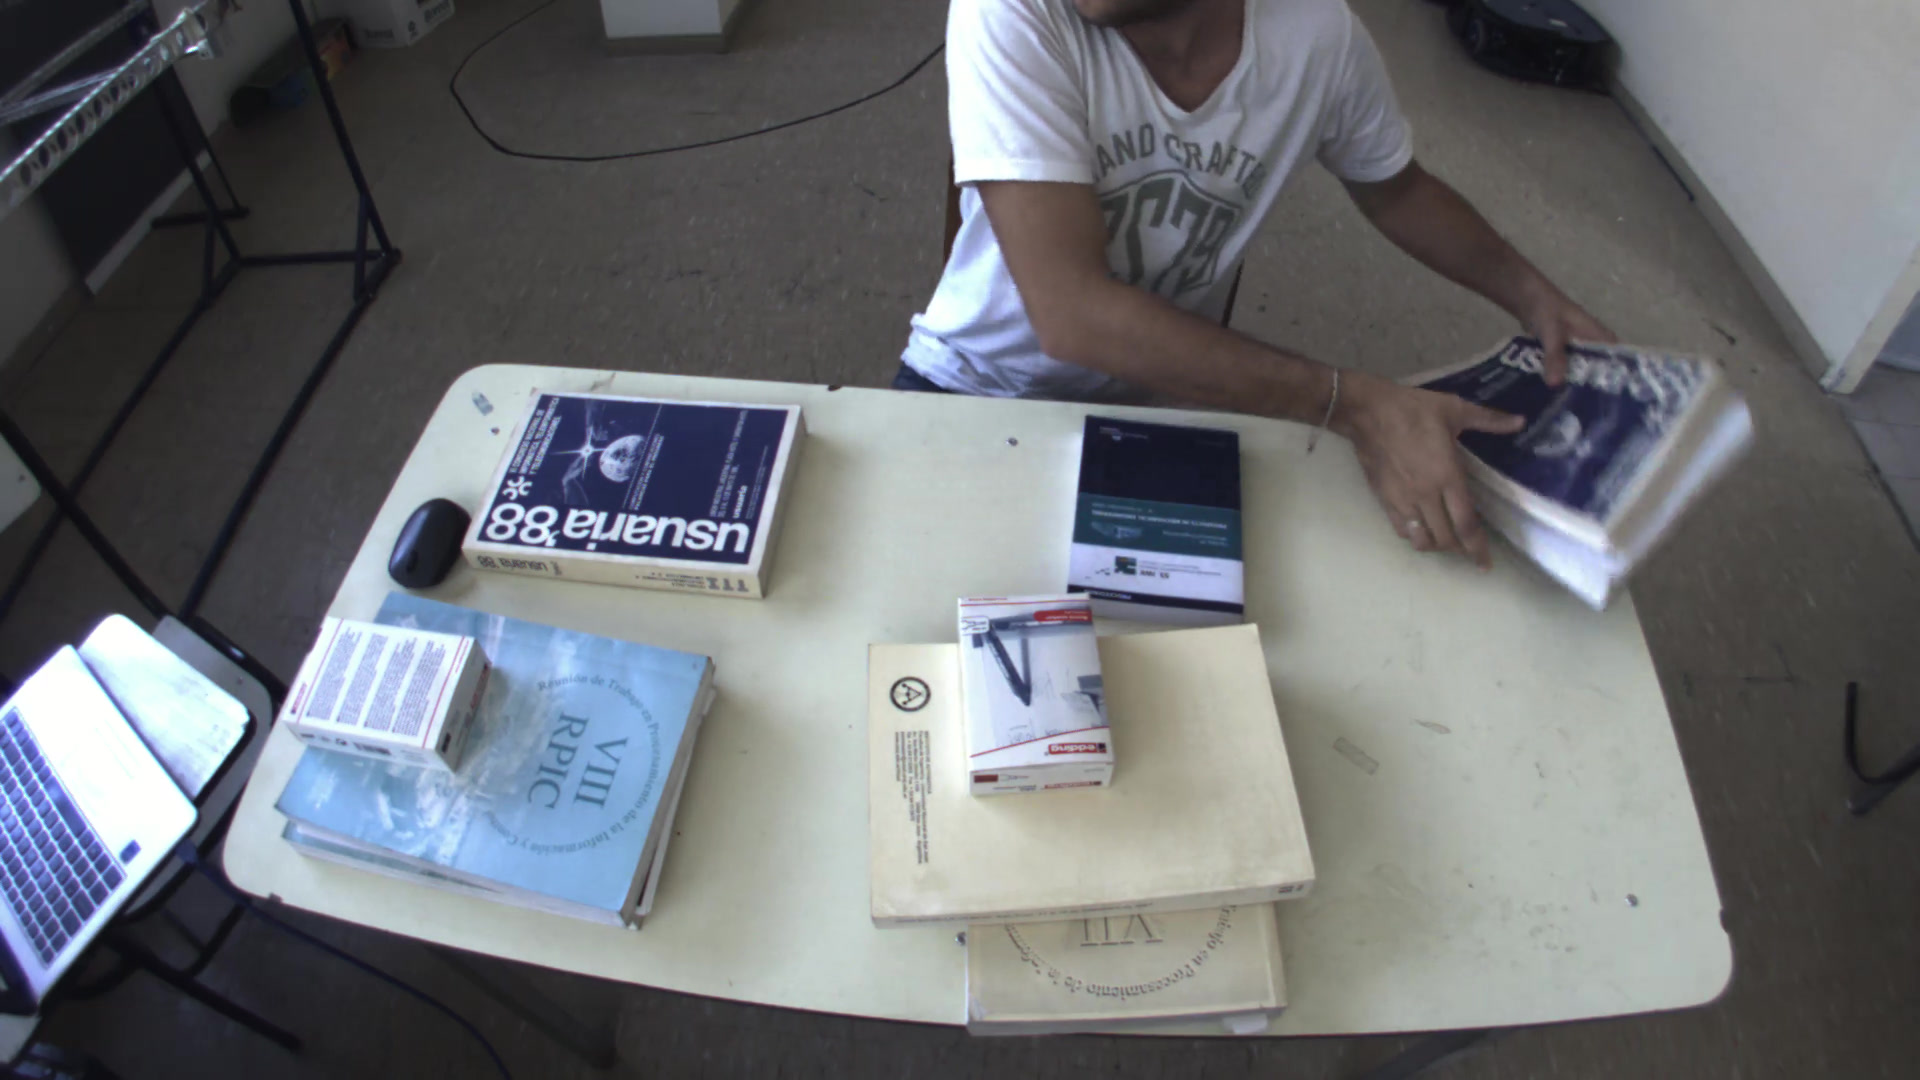hand: (1342, 371, 1539, 570), (1509, 274, 1630, 384)
